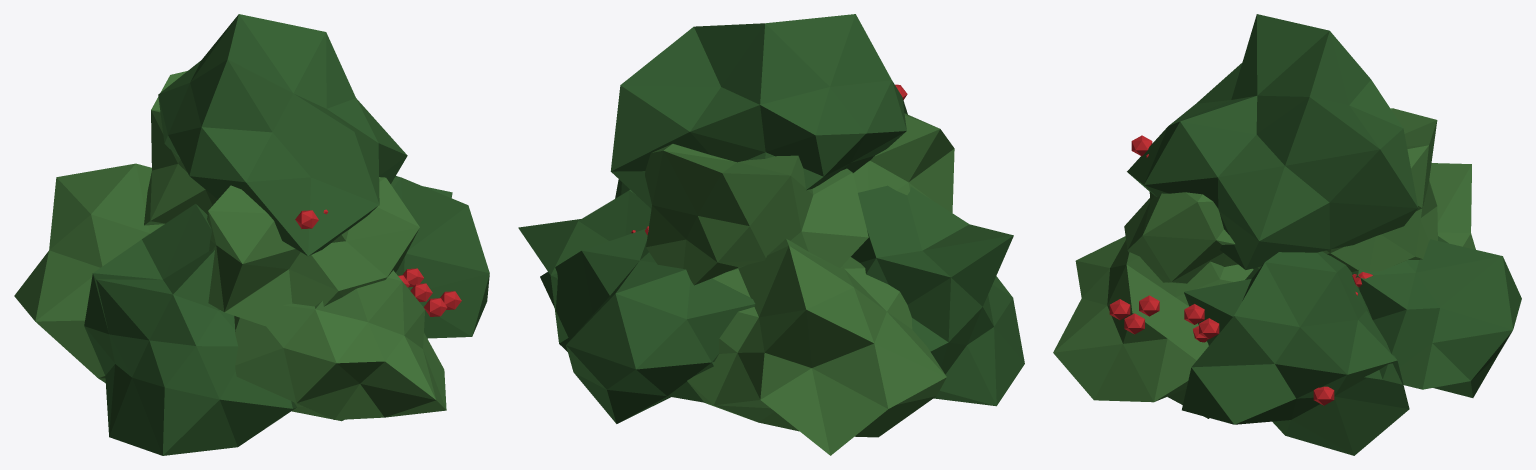
The model's file is bush-holly-a.glb.
3 renders of one model, left to right at view 1: azimuth 30°, elevation 25°; view 2: azimuth 150°, elevation 25°; view 3: azimuth 270°, elevation 25°, orthographic. The views are drawn at different scales.
Parts seen in each view (by area): view 1: Body_Leaves, Body_Leaves2, Body_Berries; view 2: Body_Leaves, Body_Leaves2; view 3: Body_Leaves, Body_Leaves2, Body_Berries.
Boxes of the visible parts, x1,y1,x2,y2 form: Body_Leaves: (84, 14, 489, 455); Body_Leaves2: (14, 71, 446, 421); Body_Berries: (295, 209, 461, 316); Body_Leaves: (518, 14, 1024, 423); Body_Leaves2: (645, 113, 954, 455); Body_Leaves: (1127, 14, 1521, 455); Body_Leaves2: (1053, 108, 1475, 418); Body_Berries: (1109, 135, 1372, 405).
Size of the model in its own units: 1.5 by 1.3 by 1.5.
